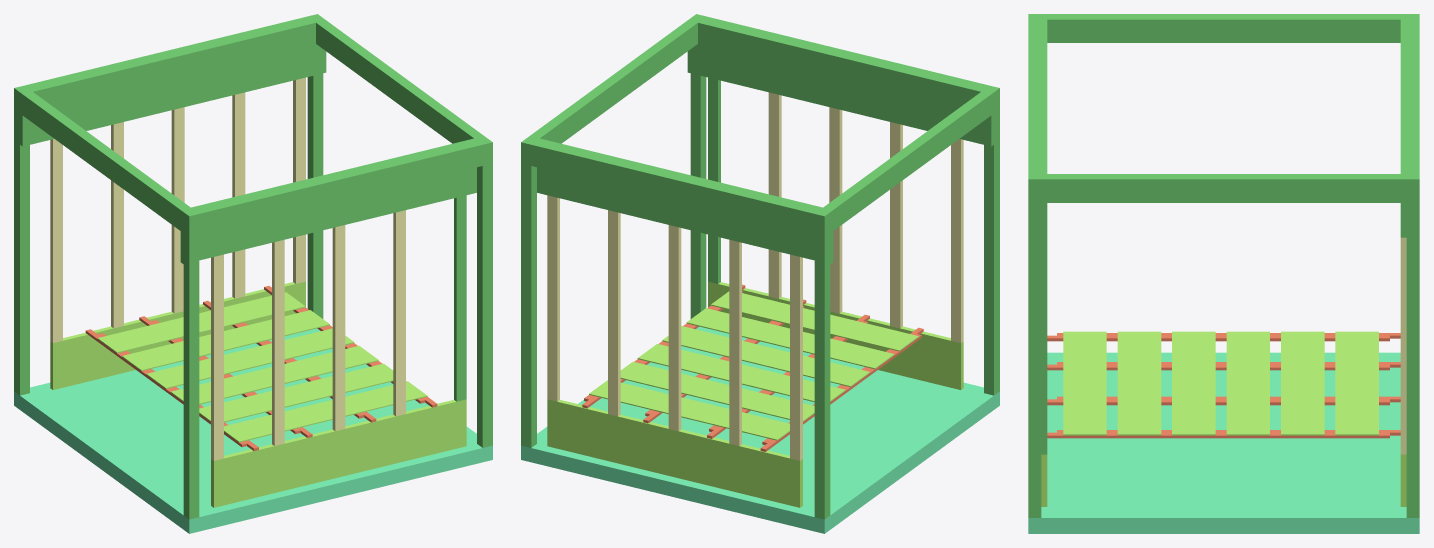
3 views of the same model, side by side, from view 1: azimuth 30°, elevation 25°; view 2: azimuth 150°, elevation 25°; view 3: azimuth 270°, elevation 25° (orthographic). The views are drawn at different scales.
Parts seen in each view (by area): view 1: 物件_87, 物件_15, 物件_3, 物件_2, 物件_94, 物件_92, 物件_90, 物件_14, 物件_95, 物件_88, 物件_91, 物件_89 (+17 smaller); view 2: 物件_87, 物件_2, 物件_14, 物件_15, 物件_93, 物件_92, 物件_91, 物件_95, 物件_89, 物件_3, 物件_90, 物件_88 (+17 smaller); view 3: 物件_87, 物件_95, 物件_92, 物件_89, 物件_88, 物件_82, 物件_81, 物件_83, 物件_85, 物件_86, 物件_84, 物件_93 (+5 smaller).
Boxes of the visible parts, x1,y1,x2,y2 form: 物件_87: (14,328,492,533); 物件_15: (20,18,326,146); 物件_3: (211,399,466,507); 物件_2: (180,136,486,263); 物件_94: (184,138,492,236); 物件_92: (14,88,199,237); 物件_90: (183,209,199,519); 物件_14: (50,281,305,389); 物件_95: (310,15,492,162); 物件_88: (477,138,492,447); 物件_91: (14,88,29,395); 物件_89: (307,14,323,318); 物件_87: (521,326,999,533); 物件_2: (687,18,993,146); 物件_14: (547,399,802,507); 物件_15: (527,136,833,263); 物件_93: (521,138,829,236); 物件_92: (815,88,999,237); 物件_91: (814,209,830,519); 物件_95: (521,15,705,162); 物件_89: (521,138,536,447); 物件_3: (708,281,963,389); 物件_90: (984,88,999,395); 物件_88: (690,14,706,318); 物件_87: (1028,352,1419,533); 物件_95: (1028,174,1419,202); 物件_92: (1028,14,1419,42); 物件_89: (1406,174,1419,517); 物件_88: (1028,174,1041,517); 物件_82: (1117,331,1161,435); 物件_81: (1063,331,1106,435); 物件_83: (1172,331,1215,435); 物件_85: (1281,331,1324,435); 物件_86: (1335,331,1378,435); 物件_84: (1226,331,1269,435); 物件_93: (1406,15,1419,202).
Size of the model in its own units: 48 by 48 by 48.
